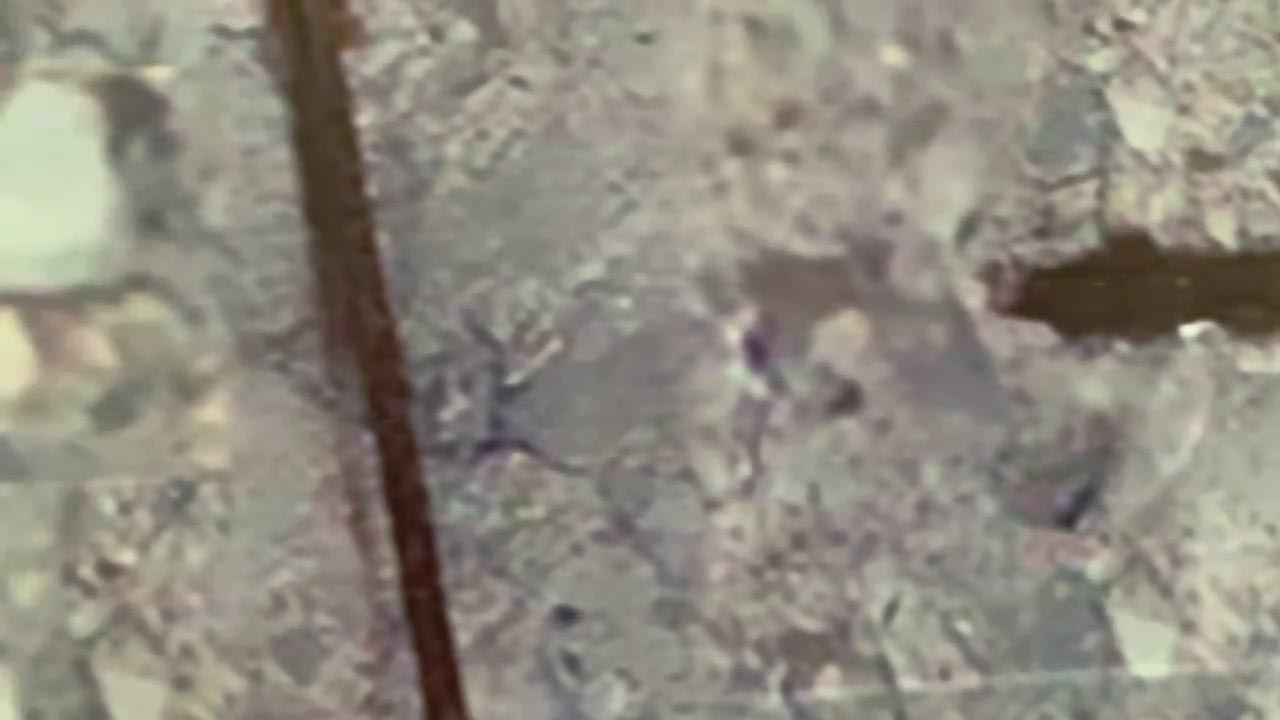Exposed reinforcement: (293, 1, 471, 720), (999, 227, 1280, 347)
